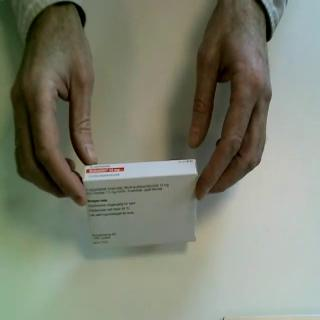dolcontin10mg: (83, 158, 201, 254)
